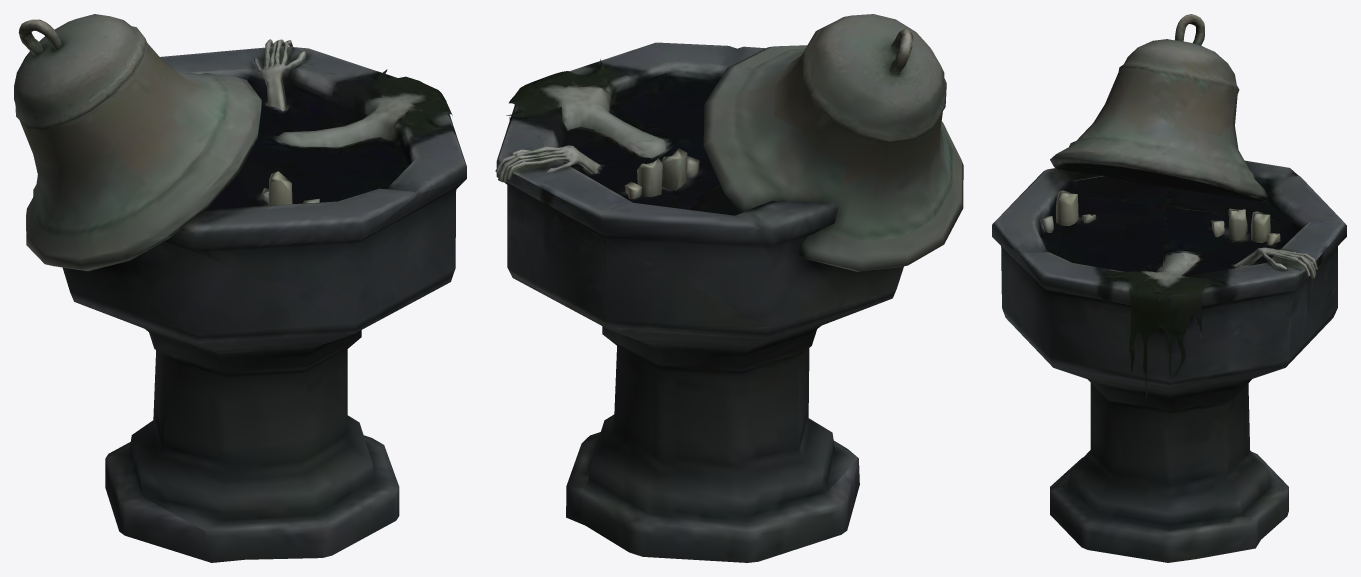
The model's file is drowned_font.glb.
3 renders of one model, left to right at view 1: azimuth 30°, elevation 25°; view 2: azimuth 150°, elevation 25°; view 3: azimuth 270°, elevation 25°, orthographic. The views are drawn at different scales.
Visible parts, largest first — view 1: tripo_node_c8a39f2a-6a32-43ca-8e89-c0f1fc5830a1; view 2: tripo_node_c8a39f2a-6a32-43ca-8e89-c0f1fc5830a1; view 3: tripo_node_c8a39f2a-6a32-43ca-8e89-c0f1fc5830a1.
Part boxes in pixels (x1=…): tripo_node_c8a39f2a-6a32-43ca-8e89-c0f1fc5830a1: x1=14, y1=14, x2=466, y2=562; tripo_node_c8a39f2a-6a32-43ca-8e89-c0f1fc5830a1: x1=495, y1=14, x2=963, y2=562; tripo_node_c8a39f2a-6a32-43ca-8e89-c0f1fc5830a1: x1=992, y1=14, x2=1346, y2=562.
Bounding box in the file's own units: 0.838 × 0.998 × 0.7677.
Materials: 1 (1 with a texture image).
